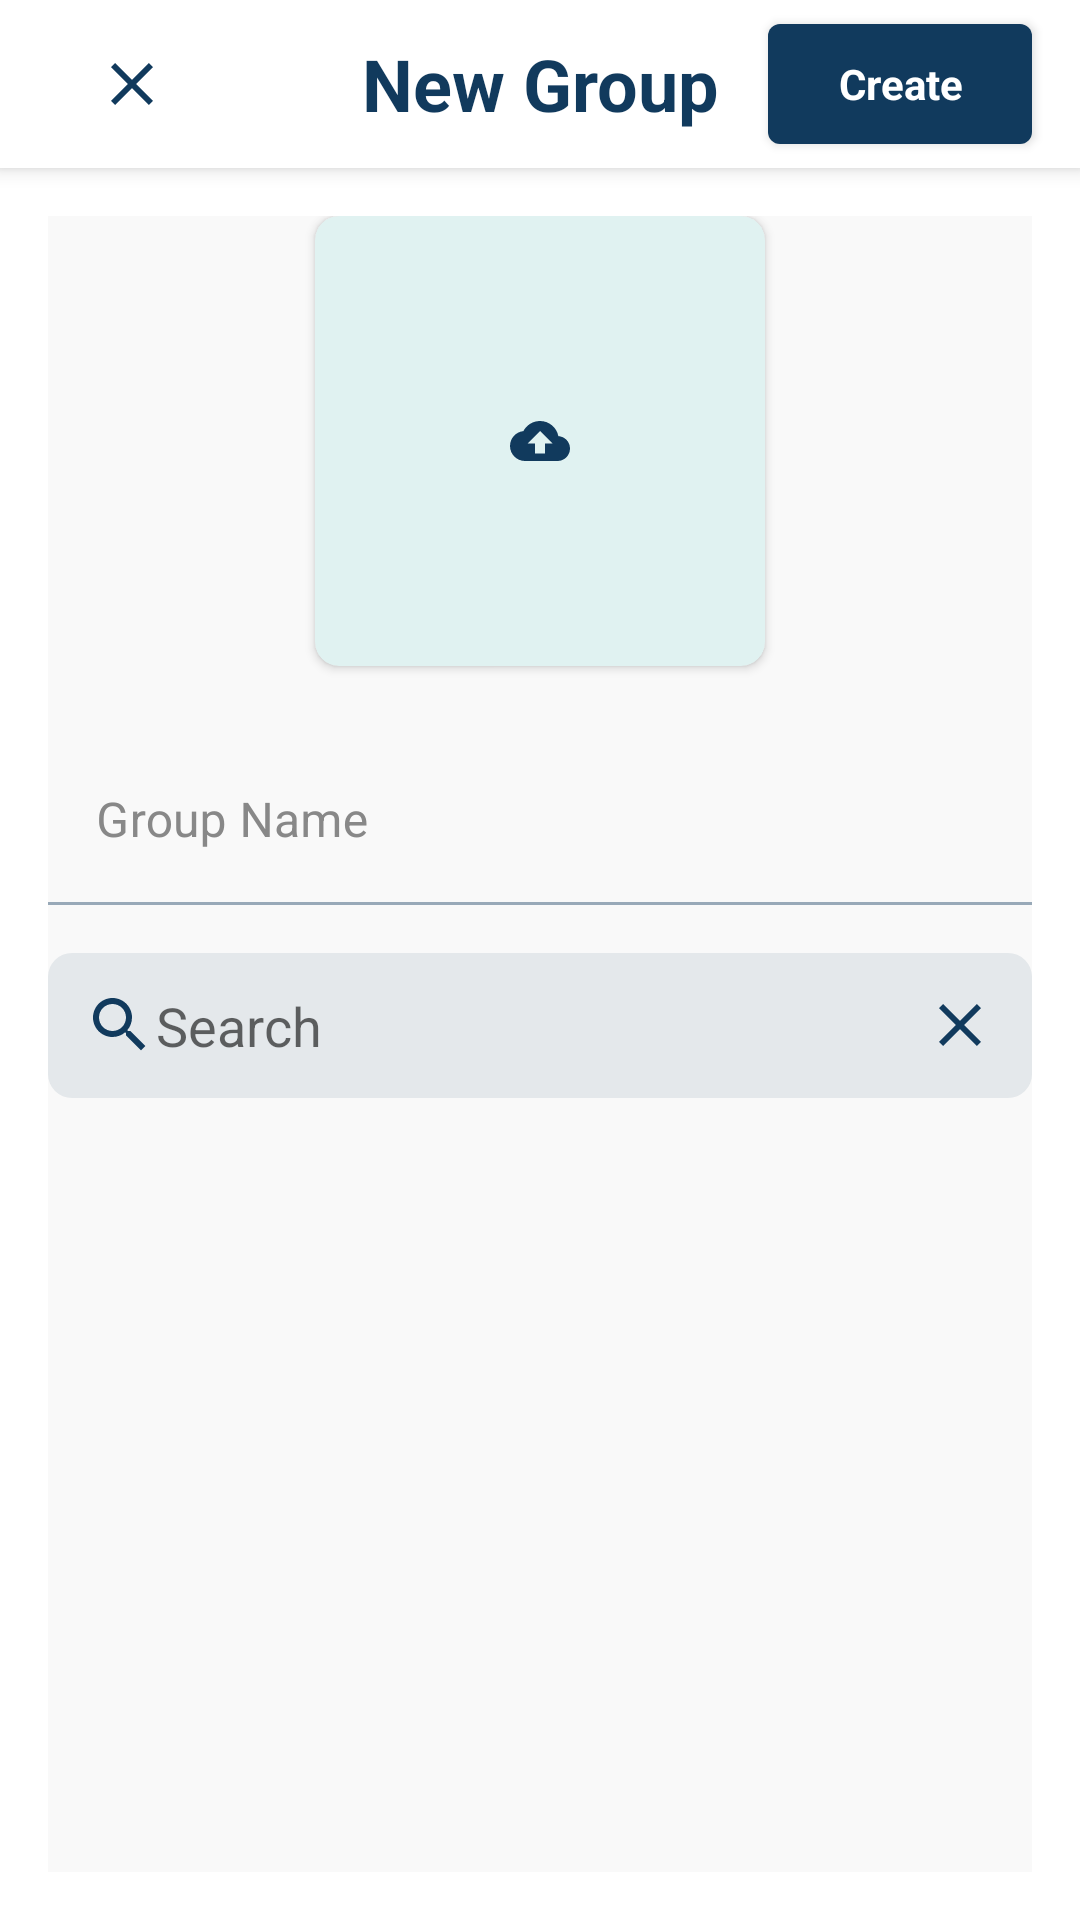

Named icons in this screenshot (1080w x 1920h) and their centers, [x,y]:
close: [132,84]
cloud upload: [540,441]
